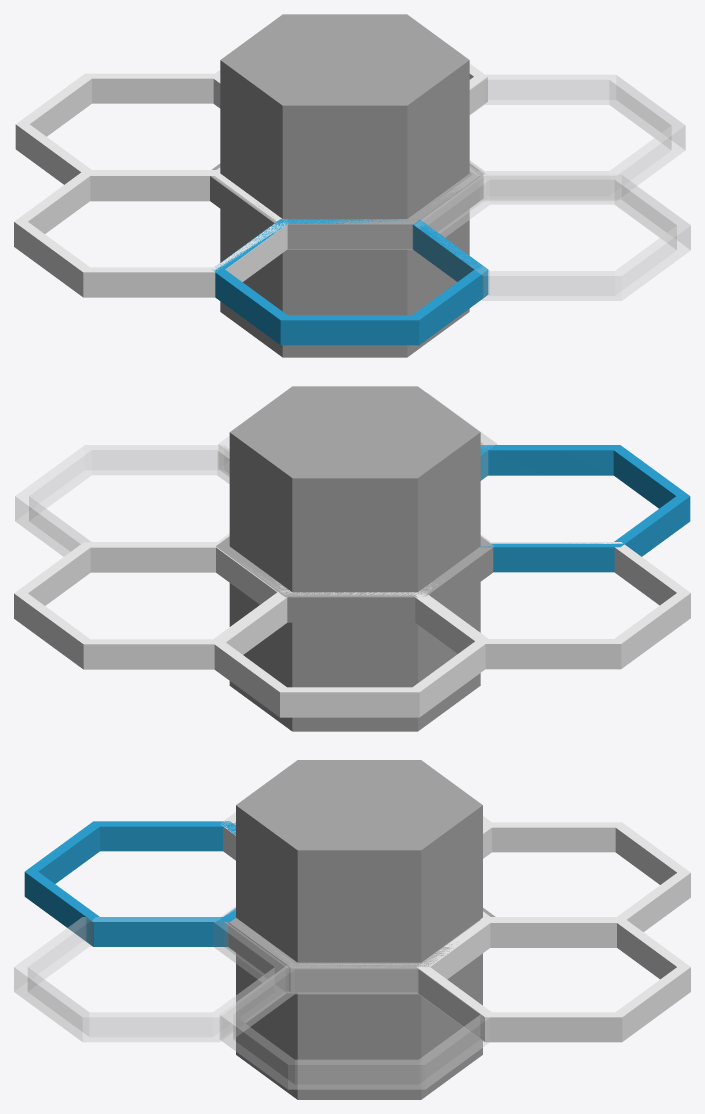
The model's file is wall.dae.
3 renders of one model, top to bottom at view 1: azimuth 30°, elevation 25°; view 2: azimuth 150°, elevation 25°; view 3: azimuth 270°, elevation 25°, orthographic.
Visible parts, largest first — view 1: Cylinder1, Cylinder_Subtract_Cylinder4, Cylinder_Subtract_Cylinder7, Cylinder_Subtract_Cylinder2, Cylinder_Subtract_Cylinder6, Cylinder_Subtract_Cylinder3, Cylinder, Cylinder_Subtract_Cylinder5, Cylinder_Subtract_Cylinder1; view 2: Cylinder1, Cylinder_Subtract_Cylinder1, Cylinder_Subtract_Cylinder6, Cylinder_Subtract_Cylinder3, Cylinder_Subtract_Cylinder7, Cylinder_Subtract_Cylinder2, Cylinder, Cylinder_Subtract_Cylinder4; view 3: Cylinder1, Cylinder_Subtract_Cylinder2, Cylinder_Subtract_Cylinder1, Cylinder_Subtract_Cylinder4, Cylinder_Subtract_Cylinder6, Cylinder_Subtract_Cylinder3, Cylinder, Cylinder_Subtract_Cylinder5, Cylinder_Subtract_Cylinder7.
Part boxes in pixels (box(x1,y1,x2,y2)): Cylinder1: box(220, 14, 469, 357); Cylinder_Subtract_Cylinder4: box(414, 175, 690, 300); Cylinder_Subtract_Cylinder7: box(14, 171, 289, 297); Cylinder_Subtract_Cylinder2: box(470, 75, 685, 200); Cylinder_Subtract_Cylinder6: box(213, 219, 488, 345); Cylinder_Subtract_Cylinder3: box(15, 73, 221, 184); Cylinder: box(210, 163, 483, 249); Cylinder_Subtract_Cylinder5: box(213, 162, 486, 249); Cylinder_Subtract_Cylinder1: box(211, 63, 487, 114); Cylinder1: box(229, 386, 480, 731); Cylinder_Subtract_Cylinder1: box(14, 542, 287, 669); Cylinder_Subtract_Cylinder6: box(480, 445, 690, 572); Cylinder_Subtract_Cylinder3: box(212, 590, 487, 717); Cylinder_Subtract_Cylinder7: box(413, 542, 690, 669); Cylinder_Subtract_Cylinder2: box(15, 445, 229, 556); Cylinder: box(216, 536, 493, 622); Cylinder_Subtract_Cylinder4: box(218, 393, 496, 480); Cylinder1: box(236, 760, 482, 1099); Cylinder_Subtract_Cylinder2: box(220, 964, 489, 1089); Cylinder_Subtract_Cylinder1: box(417, 917, 690, 1042); Cylinder_Subtract_Cylinder4: box(14, 917, 288, 1041); Cylinder_Subtract_Cylinder6: box(24, 821, 235, 946); Cylinder_Subtract_Cylinder3: box(480, 822, 690, 947); Cylinder: box(223, 907, 495, 992); Cylinder_Subtract_Cylinder5: box(221, 906, 487, 992); Cylinder_Subtract_Cylinder7: box(221, 812, 492, 860).
Bounding box in the file's own units: 2.51 × 1 × 2.47.
